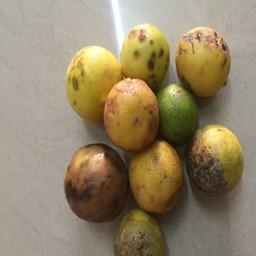Bad_lime: (60, 148, 133, 228), (175, 21, 233, 100), (130, 142, 185, 216), (106, 76, 160, 146), (190, 130, 245, 196), (61, 42, 114, 108), (117, 206, 165, 256), (127, 28, 172, 76)
